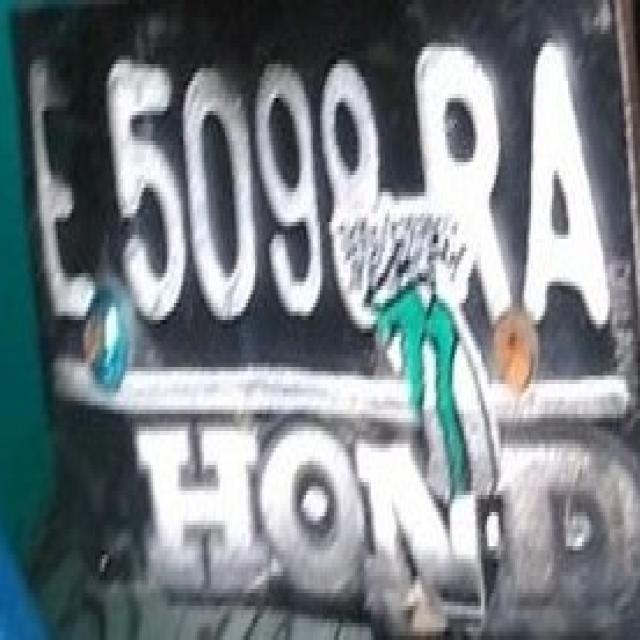plate: (9, 4, 638, 593)
